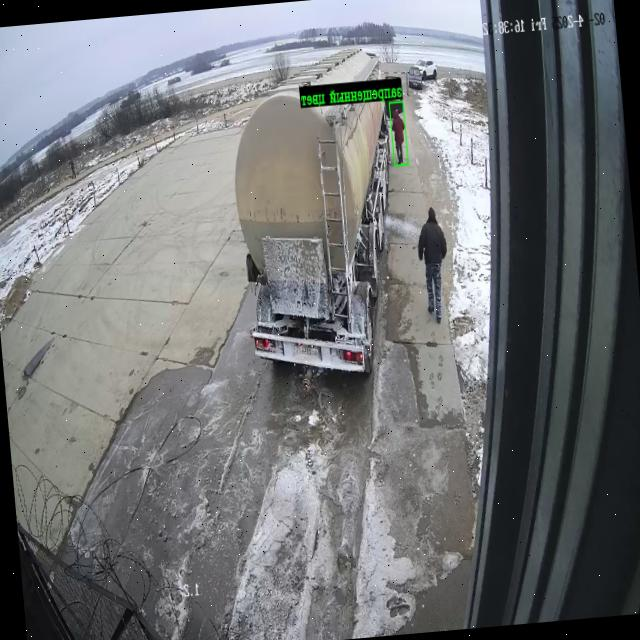Person: (417, 207, 447, 323)
Red uniform: (392, 109, 404, 163)
